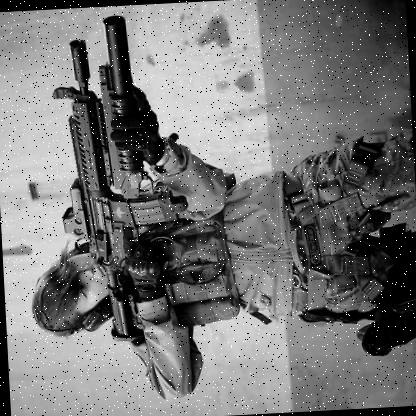rifle: (53, 16, 178, 347)
